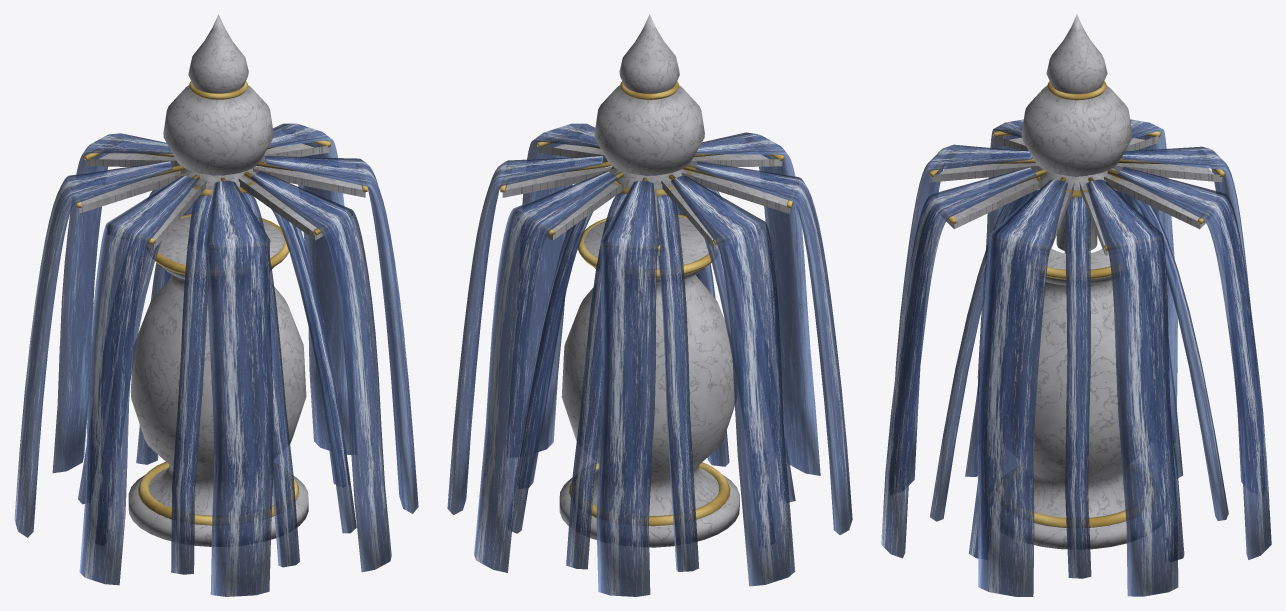
Rendered from mm6_deco_fountain.glb.
3 views of the same model, side by side, from view 1: azimuth 30°, elevation 25°; view 2: azimuth 150°, elevation 25°; view 3: azimuth 270°, elevation 25° (orthographic).
Parts seen in each view (by area): view 1: Fountain; view 2: Fountain; view 3: Fountain.
Part boxes in pixels (<box>): Fountain: <box>14,14,418,596</box>; Fountain: <box>447,14,852,596</box>; Fountain: <box>881,14,1271,596</box>.
Size of the model in its own units: 1.72 by 2.45 by 1.72.
Materials: 3 (3 with a texture image).
